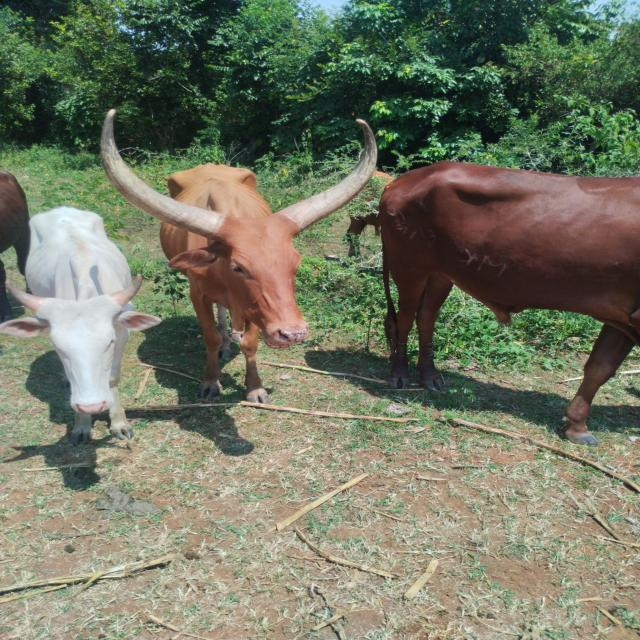Front: (101, 110, 377, 404)
